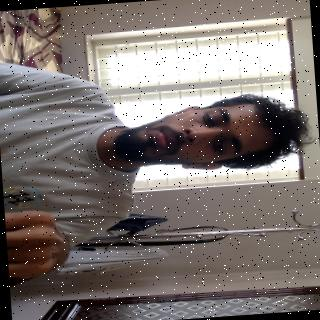Yes: (3, 204, 79, 289)
